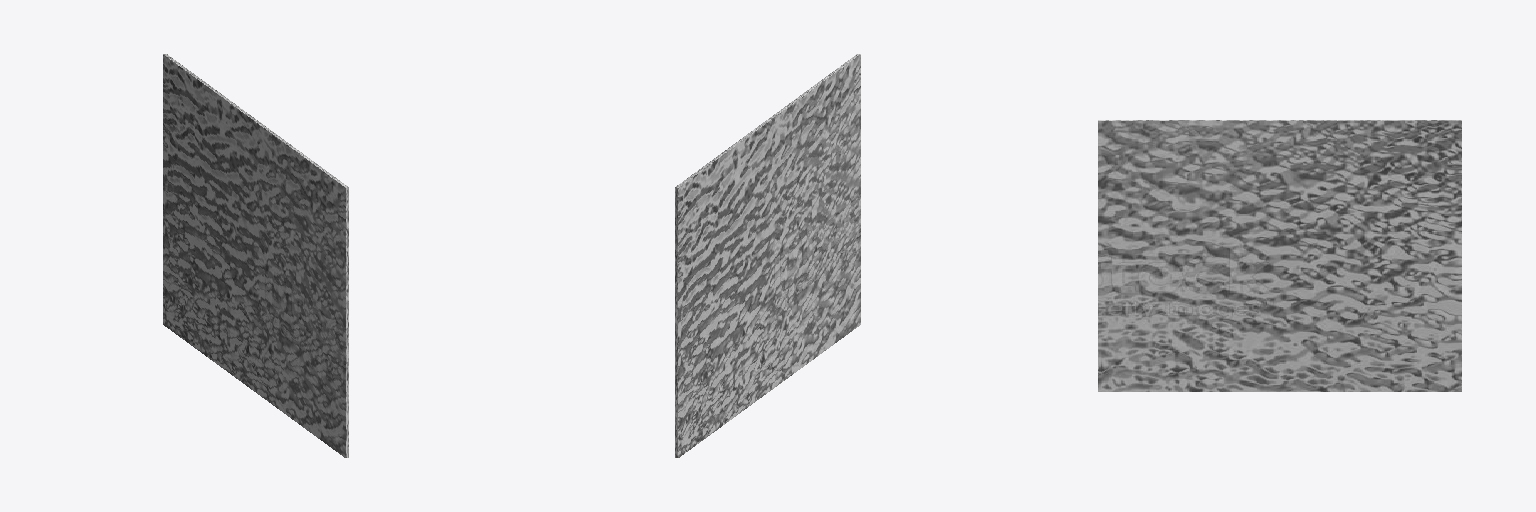
The picture shows the model from 3 angles: view 1: azimuth 30°, elevation 25°; view 2: azimuth 150°, elevation 25°; view 3: azimuth 270°, elevation 25°; orthographic projection.
Visible parts, largest first — view 1: pCube16; view 2: pCube16; view 3: pCube16.
Part boxes in pixels (x1,y1,x2,y2): pCube16: (163,54,348,457); pCube16: (675,54,860,457); pCube16: (1098,120,1461,391).
Bounding box in the file's own units: 0.0822 × 6.78 × 8.27.
Materials: 1 (1 with a texture image).